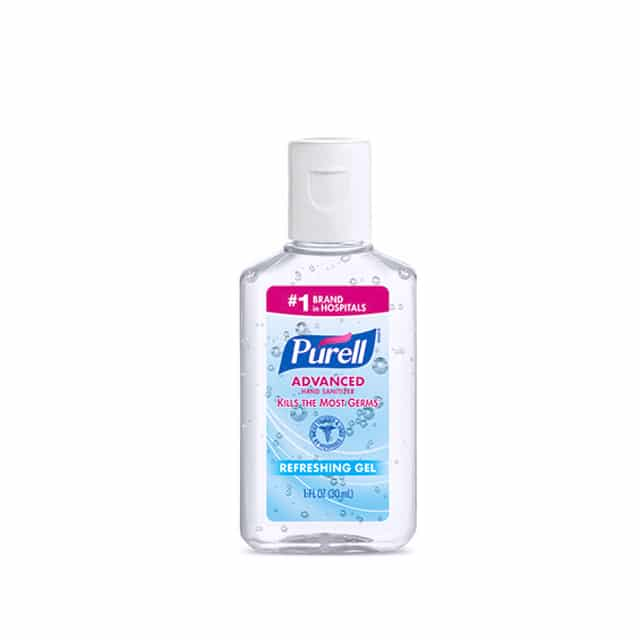Sanitizer: (228, 130, 424, 561)
